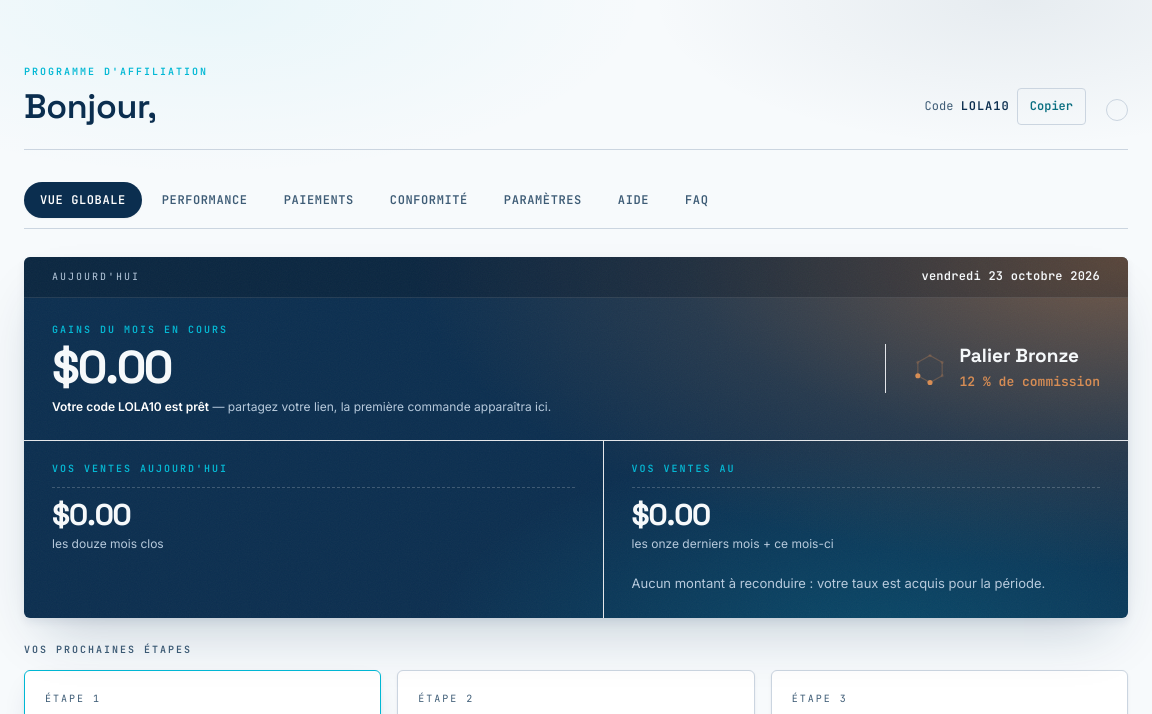
Test case: un affilié qui en a déjà un › l'ancien reste demandé et part dans la requête
Later steps or results of the test are not shown.
Click the button with test id "affiliate-tab-settings" at (543, 200), box [488, 182, 598, 218]
(page scrolled)
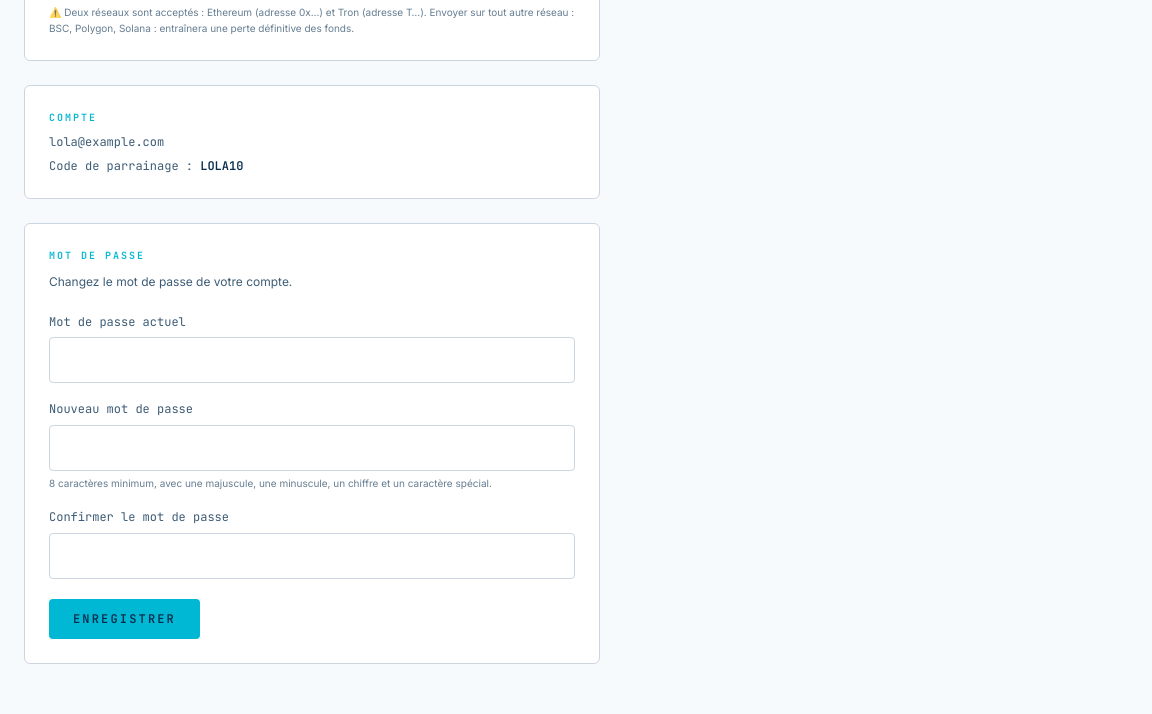
Result: the password field with test id "affiliate-pw-current" is shown at [49, 338, 575, 384]
